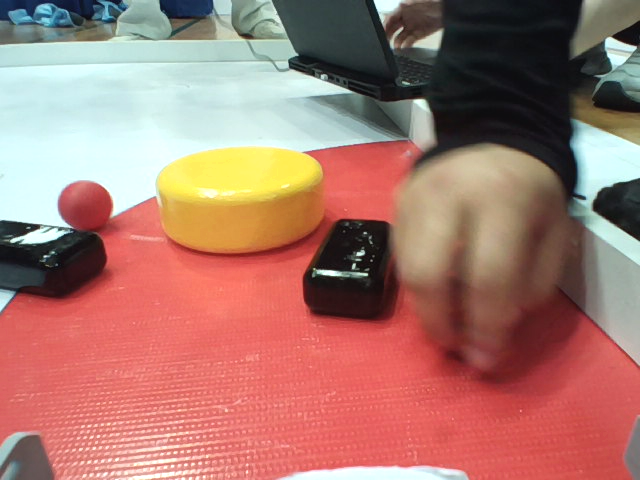black: (301, 217, 410, 332), (1, 219, 105, 330)
red: (44, 176, 127, 239)
yellow: (143, 148, 334, 253)
